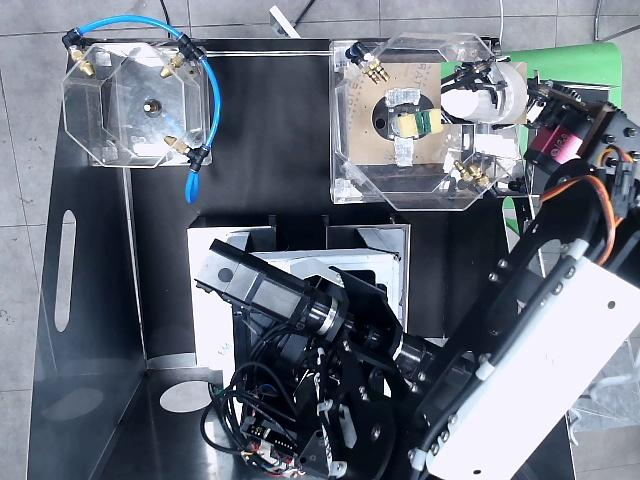cup: (441, 62, 527, 124)
